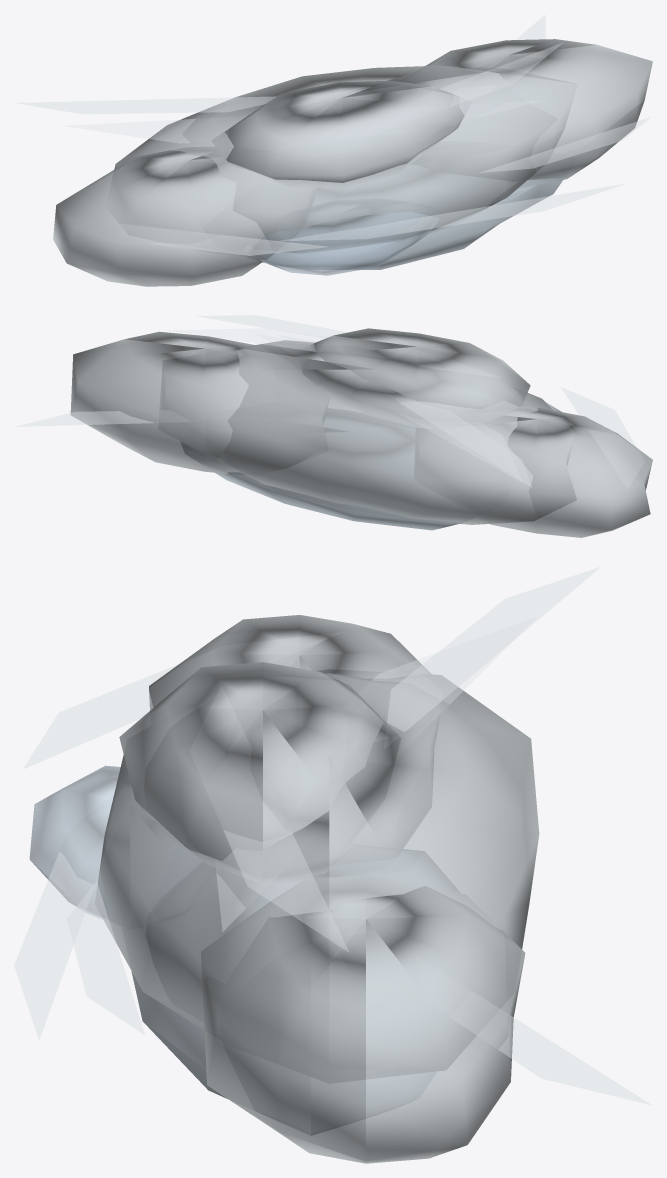
File: weather_layers.gltf
The picture shows the model from 3 angles, top to bottom: view 1: azimuth 30°, elevation 25°; view 2: azimuth 150°, elevation 25°; view 3: azimuth 270°, elevation 25°; orthographic projection. The views are drawn at different scales.
Visible parts, largest first — view 1: cloud bank lobe center, cloud bank lobe left, cloud bank lobe right, cloud bank upper depth lobe, shadow belly lobe, blue depth haze pocket rear, thin trailing cloud wisp, feathered cloud edge wisp high, high cirrus slash b, high cirrus slash a, filament trailing curl, feathered cloud edge wisp north; view 2: cloud bank lobe center, cloud bank lobe right, cloud bank lobe left, cloud bank upper depth lobe, shadow belly lobe, feathered cloud edge wisp high, high cirrus slash b, high cirrus slash a, filament trailing curl, feathered cloud edge wisp south, feathered cloud edge wisp north; view 3: cloud bank lobe center, cloud bank lobe right, cloud bank upper depth lobe, shadow belly lobe, cloud bank lobe left, blue depth haze pocket rear, thin trailing cloud wisp, feathered cloud edge wisp high, high cirrus slash b, high cirrus slash a, filament trailing curl, feathered cloud edge wisp north (+1 smaller).
Part boxes in pixels (x1,y1,x2,y2): cloud bank lobe center: [108, 65, 577, 256]; cloud bank lobe left: [53, 147, 316, 286]; cloud bank lobe right: [400, 39, 652, 188]; cloud bank upper depth lobe: [211, 80, 471, 187]; shadow belly lobe: [247, 157, 577, 269]; blue depth haze pocket rear: [248, 199, 443, 275]; thin trailing cloud wisp: [282, 183, 626, 240]; feathered cloud edge wisp high: [17, 96, 276, 113]; high cirrus slash b: [440, 43, 562, 106]; high cirrus slash a: [65, 101, 539, 143]; filament trailing curl: [480, 117, 650, 172]; feathered cloud edge wisp north: [148, 235, 326, 255]; cloud bank lobe center: [158, 340, 576, 524]; cloud bank lobe right: [70, 331, 329, 475]; cloud bank lobe left: [414, 406, 652, 537]; cloud bank upper depth lobe: [297, 328, 530, 428]; shadow belly lobe: [180, 408, 475, 530]; feathered cloud edge wisp high: [399, 401, 531, 487]; high cirrus slash b: [167, 328, 327, 351]; high cirrus slash a: [255, 333, 522, 482]; filament trailing curl: [197, 315, 347, 338]; feathered cloud edge wisp south: [16, 411, 154, 426]; feathered cloud edge wisp north: [561, 387, 636, 447]; cloud bank lobe center: [95, 669, 539, 1083]; cloud bank lobe right: [201, 875, 525, 1163]; cloud bank upper depth lobe: [119, 662, 400, 881]; shadow belly lobe: [131, 849, 458, 1135]; cloud bank lobe left: [149, 615, 439, 864]; blue depth haze pocket rear: [29, 765, 215, 929]; thin trailing cloud wisp: [14, 794, 113, 1039]; feathered cloud edge wisp high: [387, 567, 600, 731]; high cirrus slash b: [223, 830, 349, 952]; high cirrus slash a: [216, 617, 535, 931]; filament trailing curl: [67, 881, 144, 1034]; feathered cloud edge wisp north: [23, 664, 178, 768].
Bounding box in the file's own units: 3.17 × 0.84 × 1.73.
